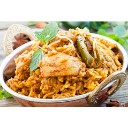briyani: (20, 36, 120, 93)
